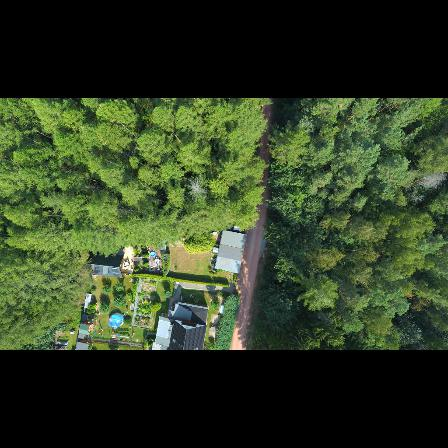Dead: (182, 177, 210, 200), (418, 170, 445, 189)
